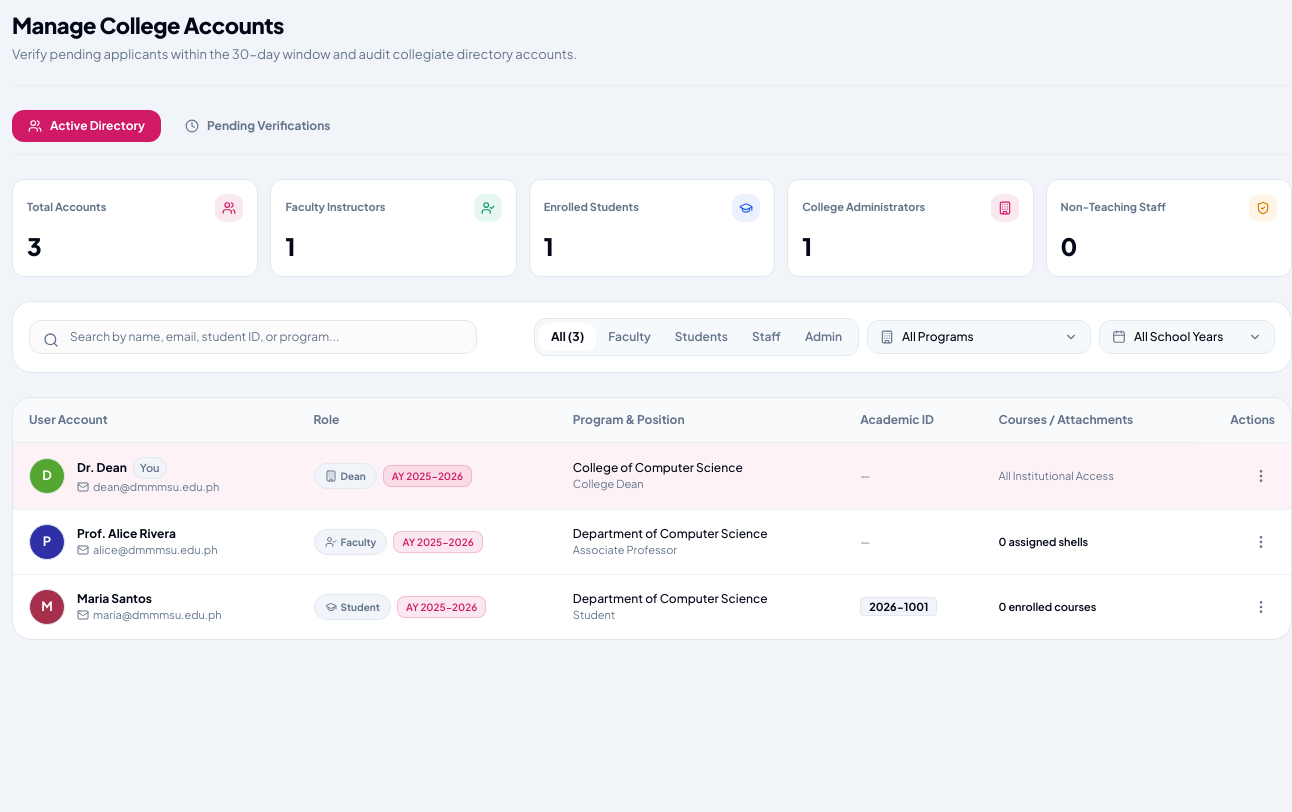
Scenario: ManageAccountsPage Actions Column (3-Dot Menu & View Profile) › closes dropdown menu when Escape key is pressed or click outside occurs
Click the button named "Actions for Maria Santos".
click(1261, 607)  # box 1247,593 -> 1275,621
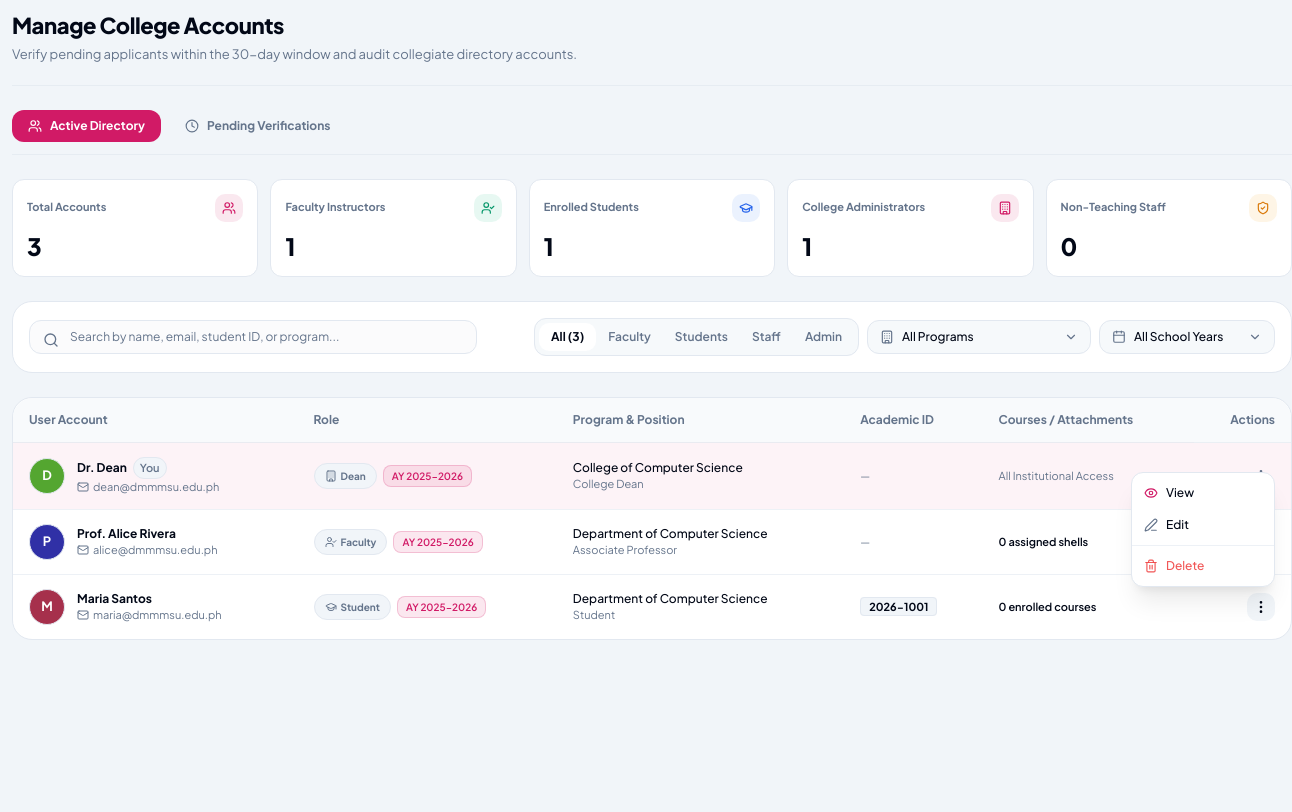
Now the menu is shown, box 1131,472 -> 1275,587
# Escape closes menu
Press Escape
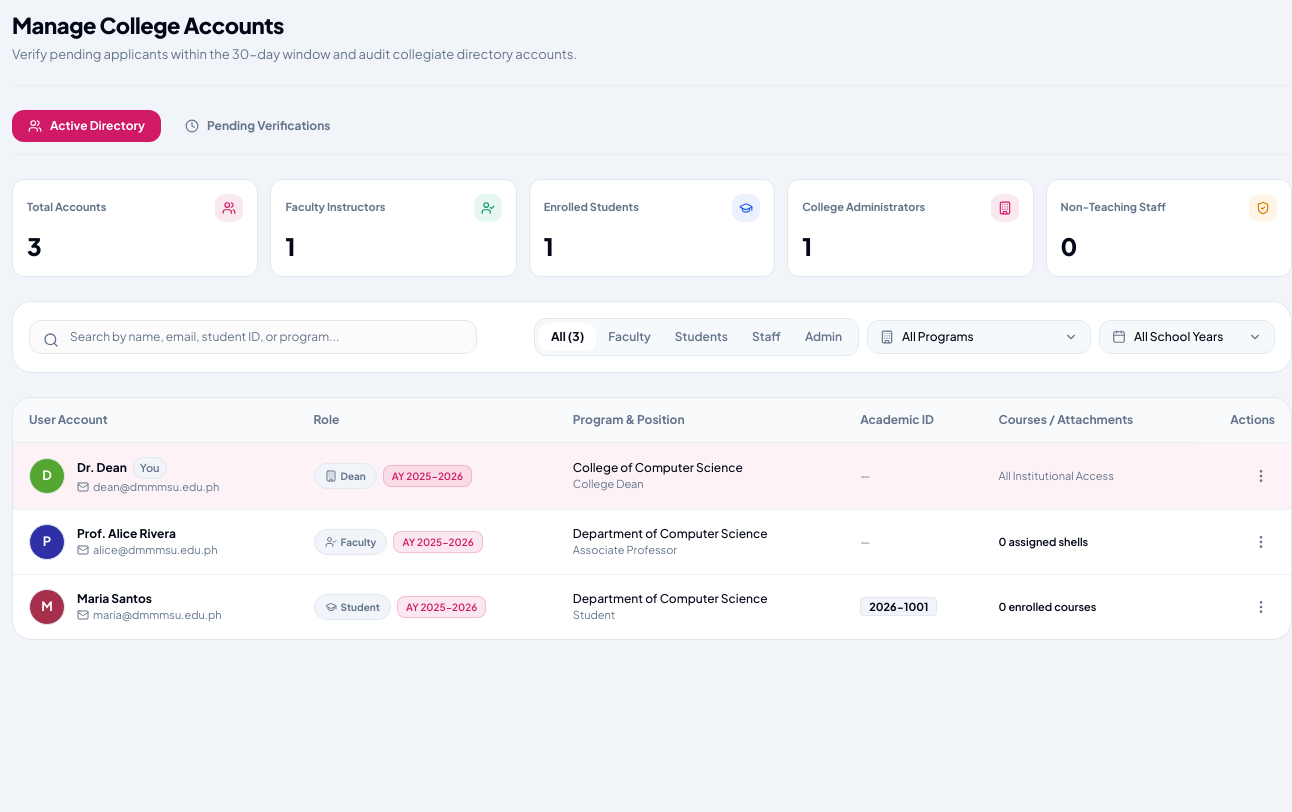
Now the menu is gone
# Open again and click outside
Click the button named "Actions for Maria Santos".
click(1261, 607)  # box 1247,593 -> 1275,621
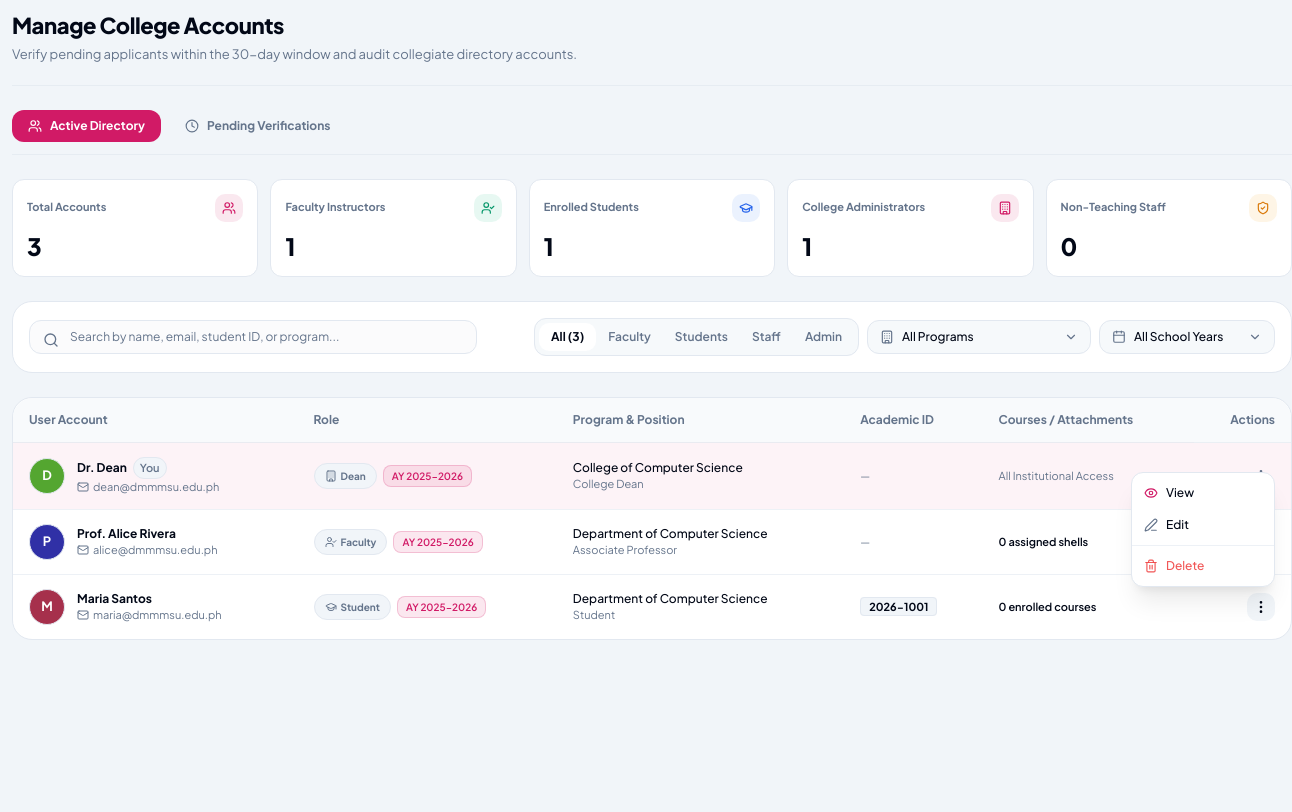
Now the menu is shown, box 1131,472 -> 1275,587
Press the mouse on the element that starts with "Manage College Accounts" at (652, 412), box 12,12 -> 1291,811
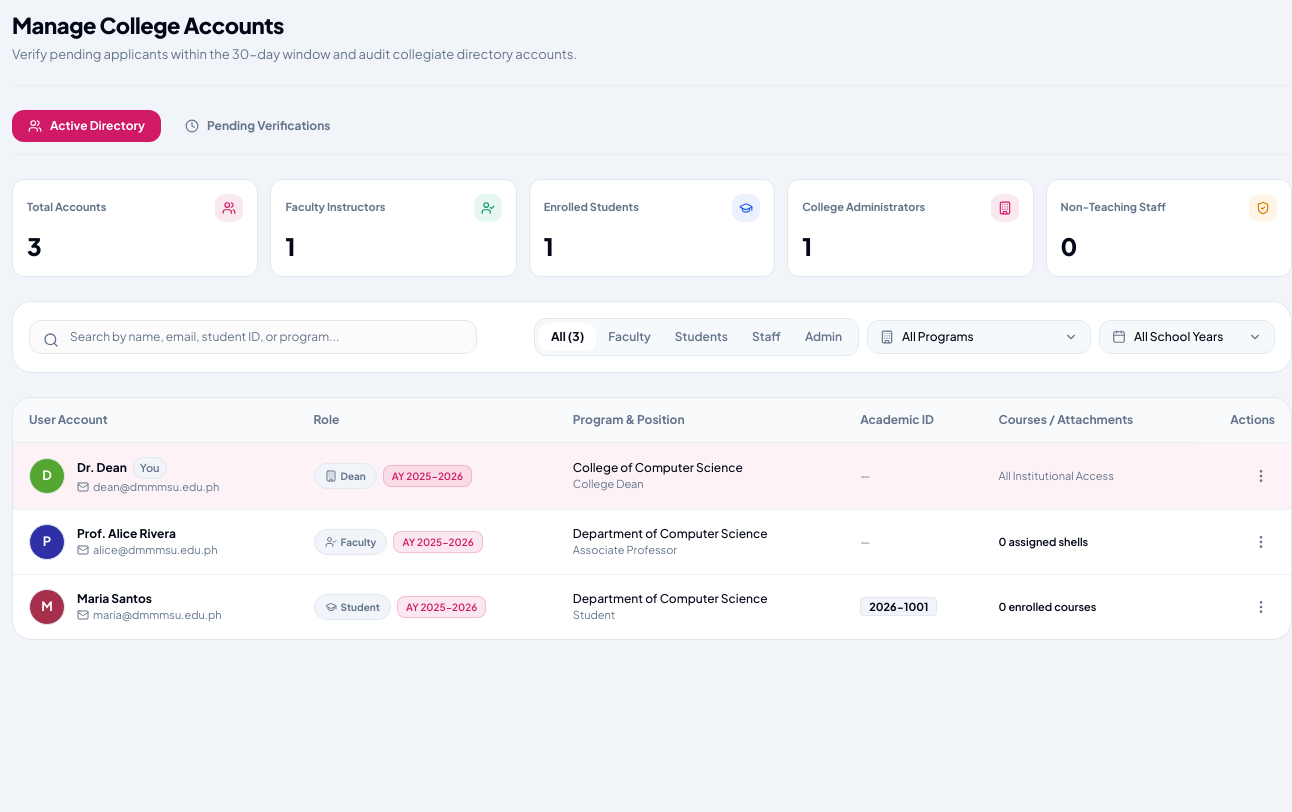
Now the menu is gone
